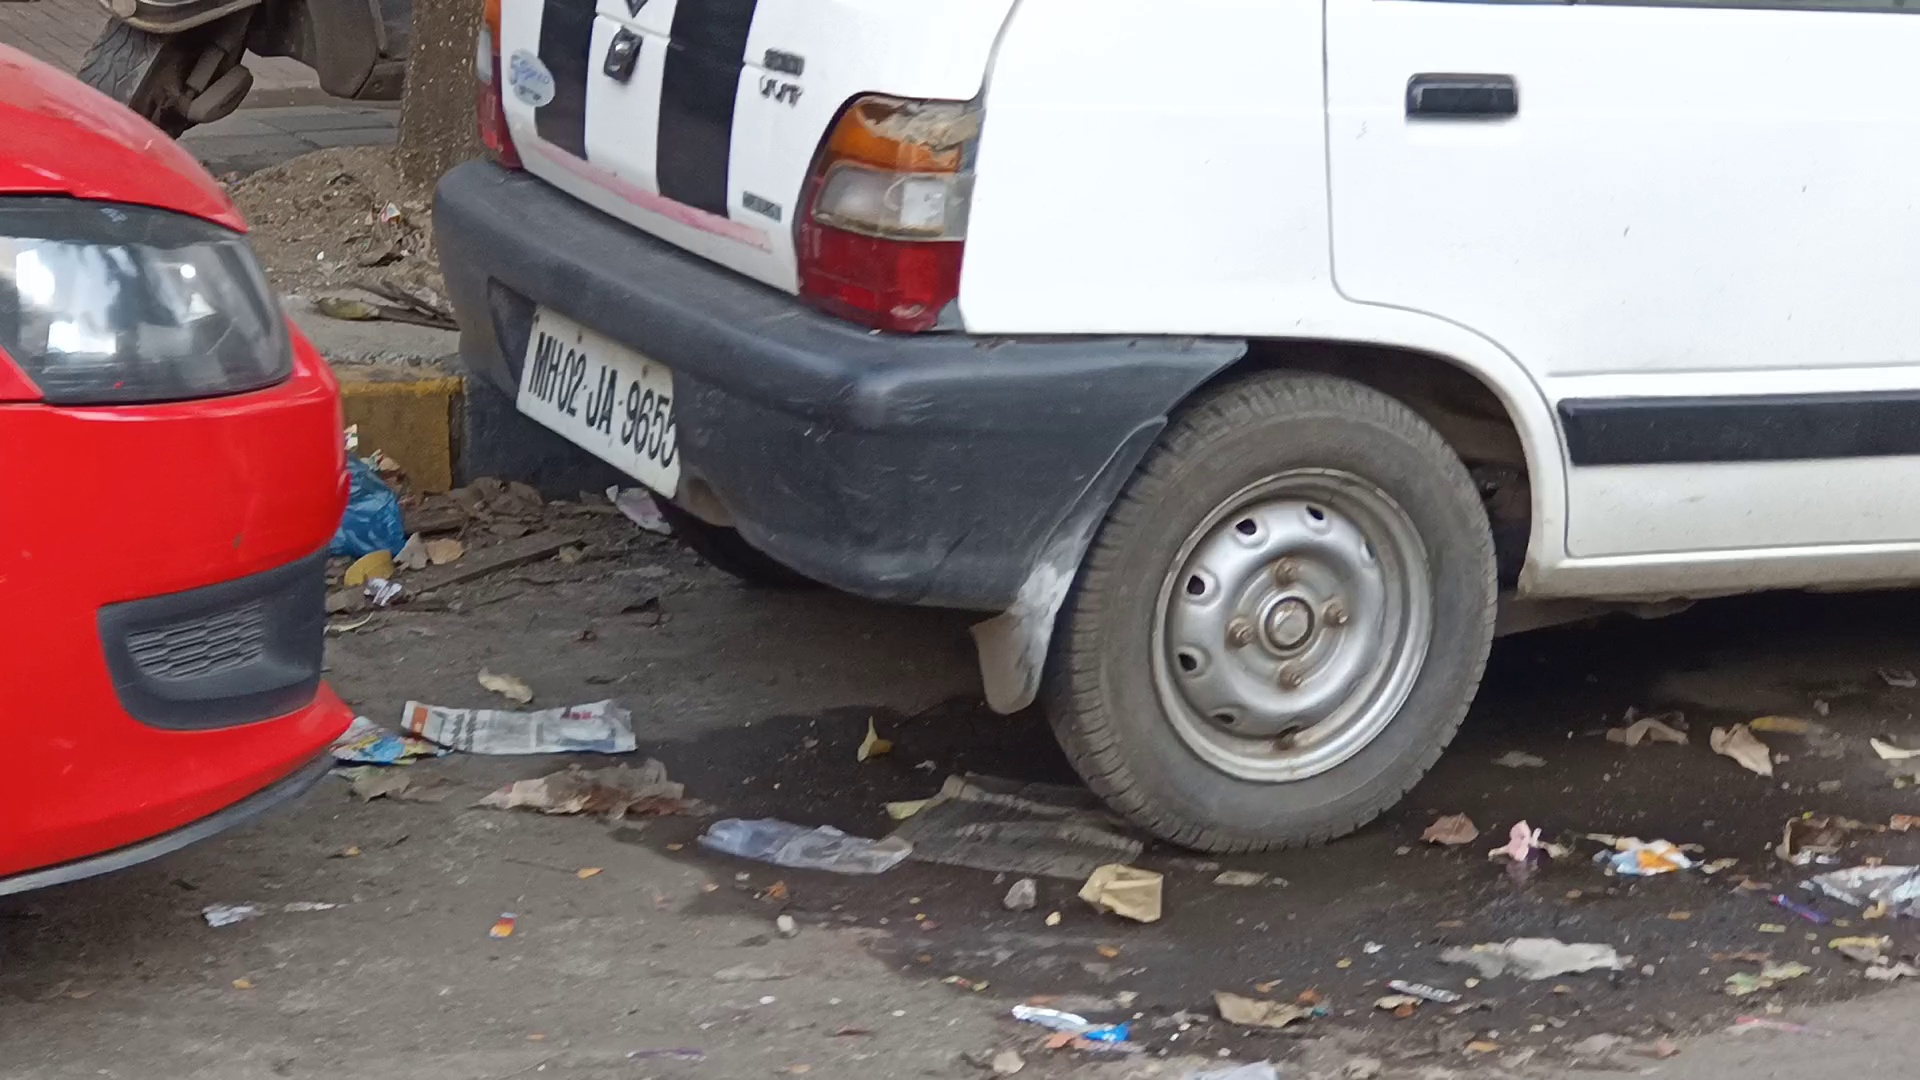MH02JA9655: (515, 301, 683, 497)
